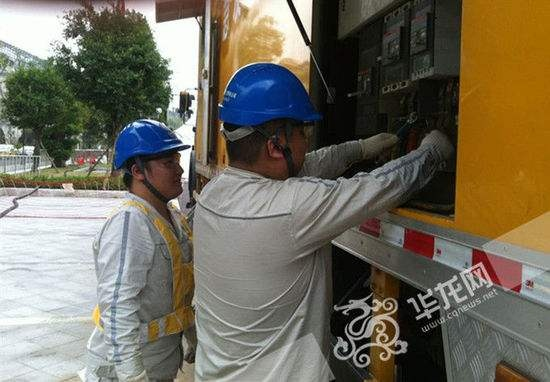blue: (218, 59, 314, 177), (111, 115, 186, 207)
